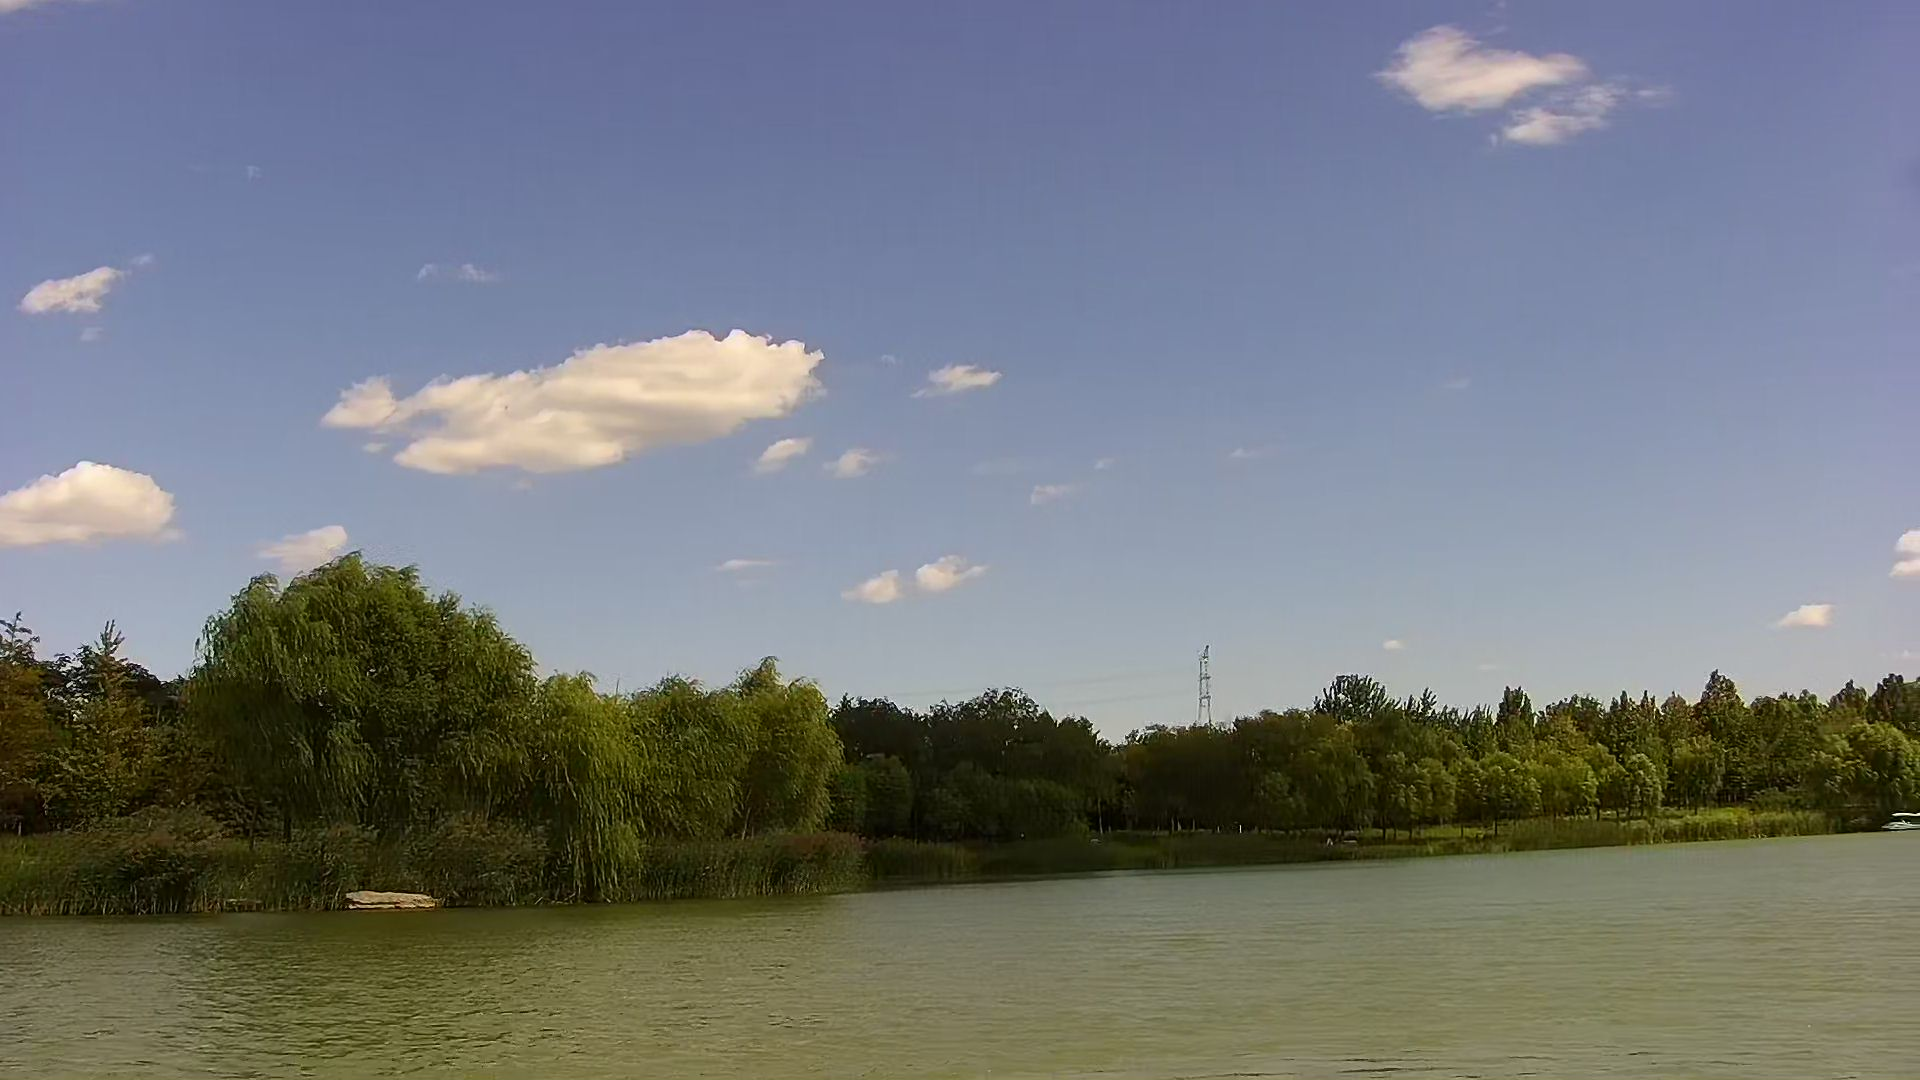boat: (1883, 808, 1920, 833)
